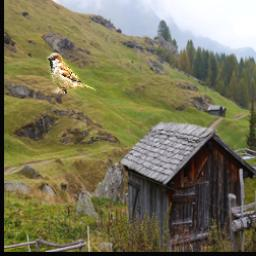Sparrow: (47, 52, 95, 94)
